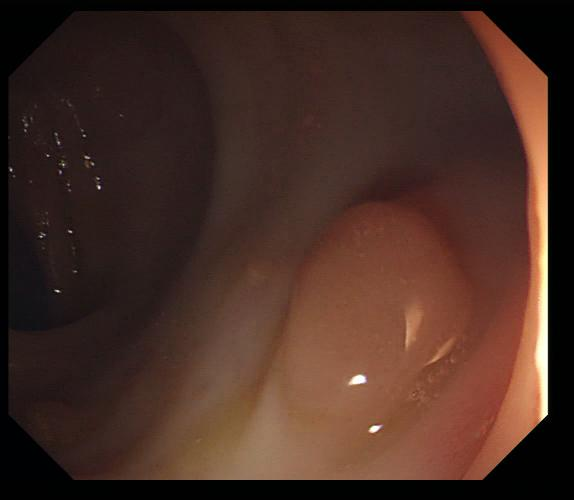polyp: (284, 198, 471, 444), (242, 255, 275, 286), (305, 57, 329, 85), (297, 105, 320, 132)
